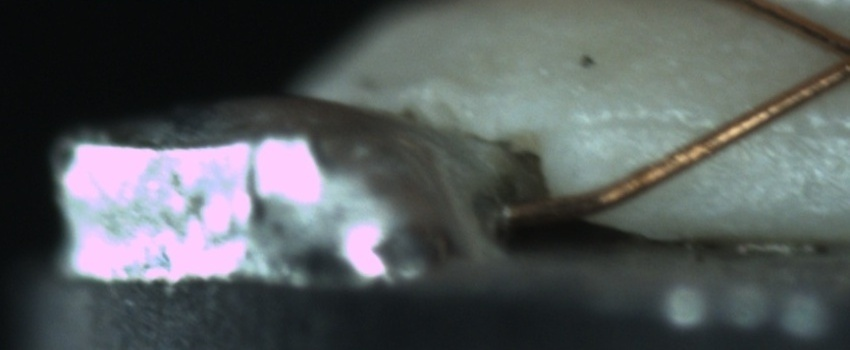CL: (808, 22, 850, 93)
DL: (575, 95, 843, 158)
